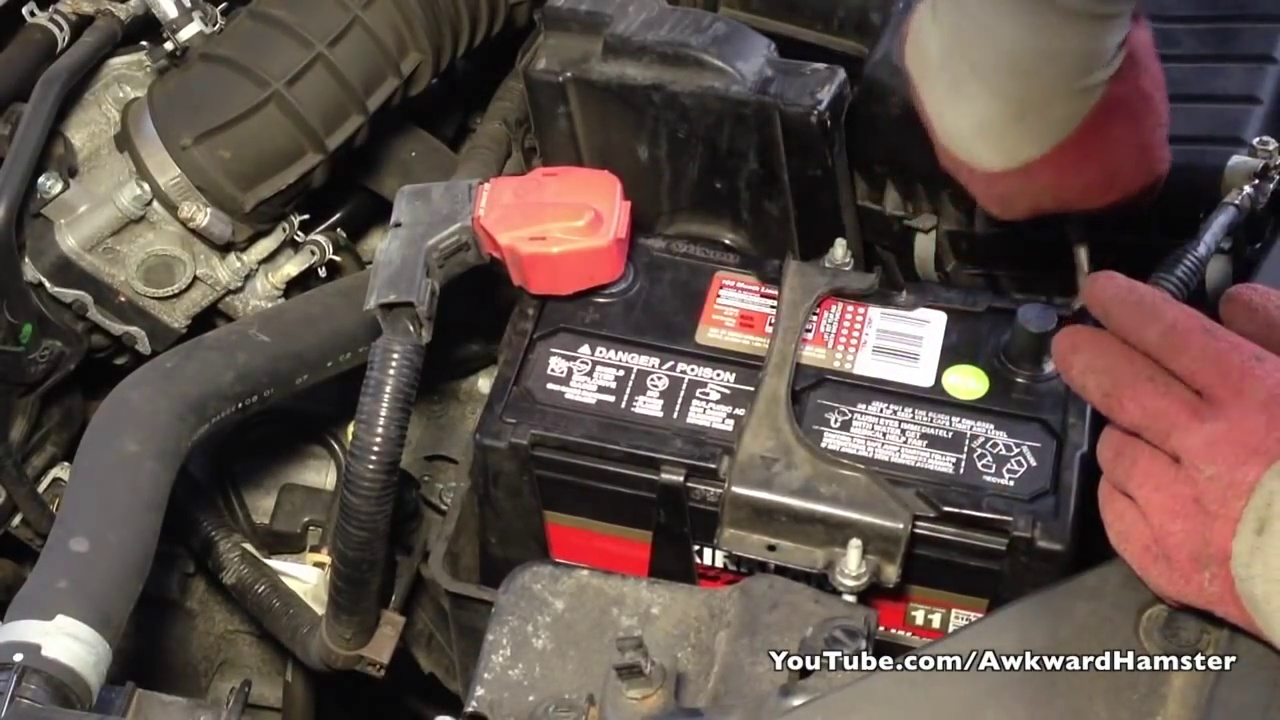battery: (466, 215, 1088, 554)
pos_connected: (460, 147, 642, 330)
